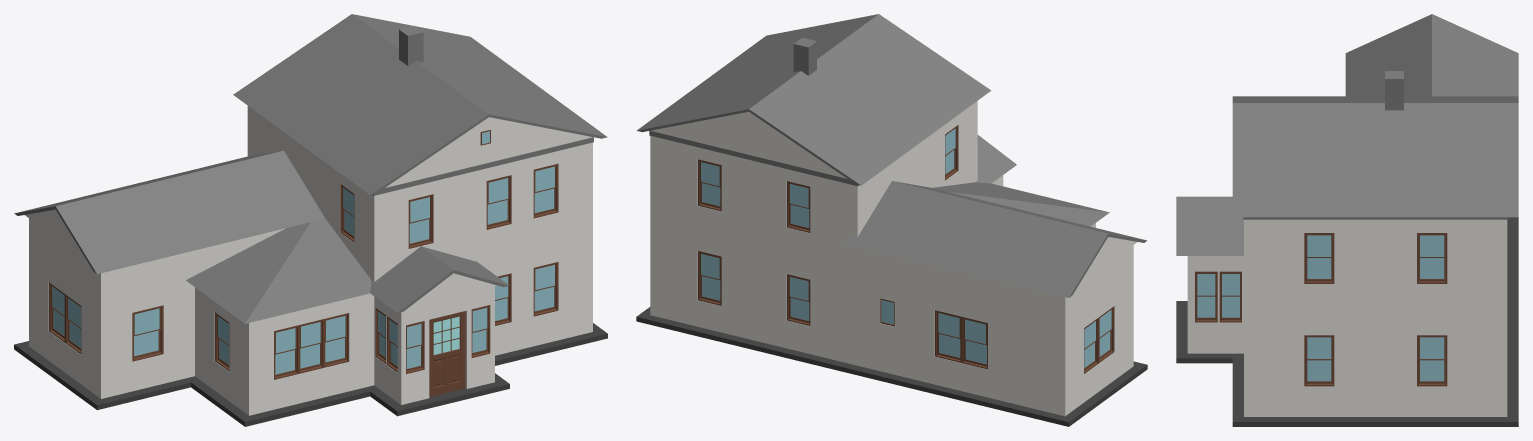
Rendered from task-13-x.obj.
The picture shows the model from 3 angles, left to right: view 1: azimuth 30°, elevation 25°; view 2: azimuth 150°, elevation 25°; view 3: azimuth 270°, elevation 25°; orthographic projection. The views are drawn at different scales.
Visible parts, largest first — view 1: wall, roof_1, roof_3, roof_0, ground_base, roof_2, door_frame_0, ledge, window_glass_6, window_glass_17, chimney_0, door_glass_0 (+9 smaller); view 2: wall, roof_1, roof_3, ground_base, roof_0, roof_2, ledge, window_glass_0, window_glass_28, window_glass_25, chimney_0, window_glass_8 (+6 smaller); view 3: wall, roof_1, roof_3, ground_base, roof_2, window_glass_2, window_glass_20, window_glass_9, window_glass_21, window_glass_14, ledge, window_glass_13 (+7 smaller).
Part boxes in pixels (x1,y1,x2,y2): wall: [25, 106, 592, 415]; roof_1: [233, 14, 607, 195]; roof_3: [14, 150, 325, 274]; roof_0: [186, 218, 371, 323]; ground_base: [14, 323, 607, 426]; roof_2: [370, 246, 509, 312]; door_frame_0: [429, 311, 465, 396]; ledge: [372, 137, 593, 195]; window_glass_6: [134, 308, 159, 356]; window_glass_17: [487, 178, 508, 224]; chimney_0: [399, 25, 423, 65]; door_glass_0: [433, 316, 459, 354]; wall: [650, 101, 1137, 416]; roof_1: [636, 14, 991, 185]; roof_3: [844, 181, 1147, 297]; ground_base: [636, 307, 1147, 426]; roof_0: [932, 182, 1109, 226]; roof_2: [975, 135, 1016, 183]; ledge: [649, 131, 859, 186]; window_glass_0: [938, 313, 960, 357]; window_glass_28: [965, 319, 986, 364]; window_glass_25: [701, 253, 720, 300]; chimney_0: [793, 37, 816, 75]; window_glass_8: [790, 184, 809, 227]; wall: [1187, 219, 1507, 416]; roof_1: [1232, 96, 1518, 217]; roof_3: [1345, 14, 1518, 96]; ground_base: [1176, 217, 1518, 426]; roof_2: [1176, 196, 1243, 255]; window_glass_2: [1420, 337, 1444, 381]; window_glass_20: [1307, 337, 1331, 381]; window_glass_9: [1420, 235, 1444, 278]; window_glass_21: [1307, 235, 1331, 278]; window_glass_14: [1197, 274, 1215, 317]; ledge: [1243, 217, 1507, 219]; window_glass_13: [1222, 274, 1239, 317].
Bounding box in the file's own units: 14.6 × 8.55 × 9.1.
